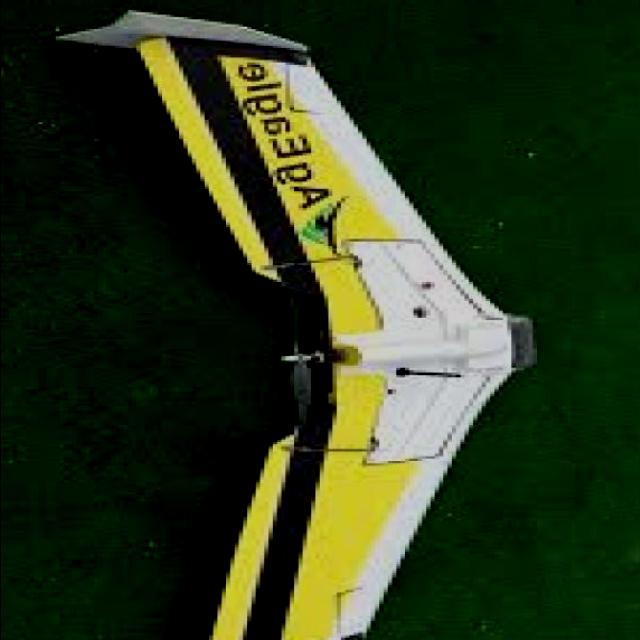plane: (53, 9, 540, 640)
